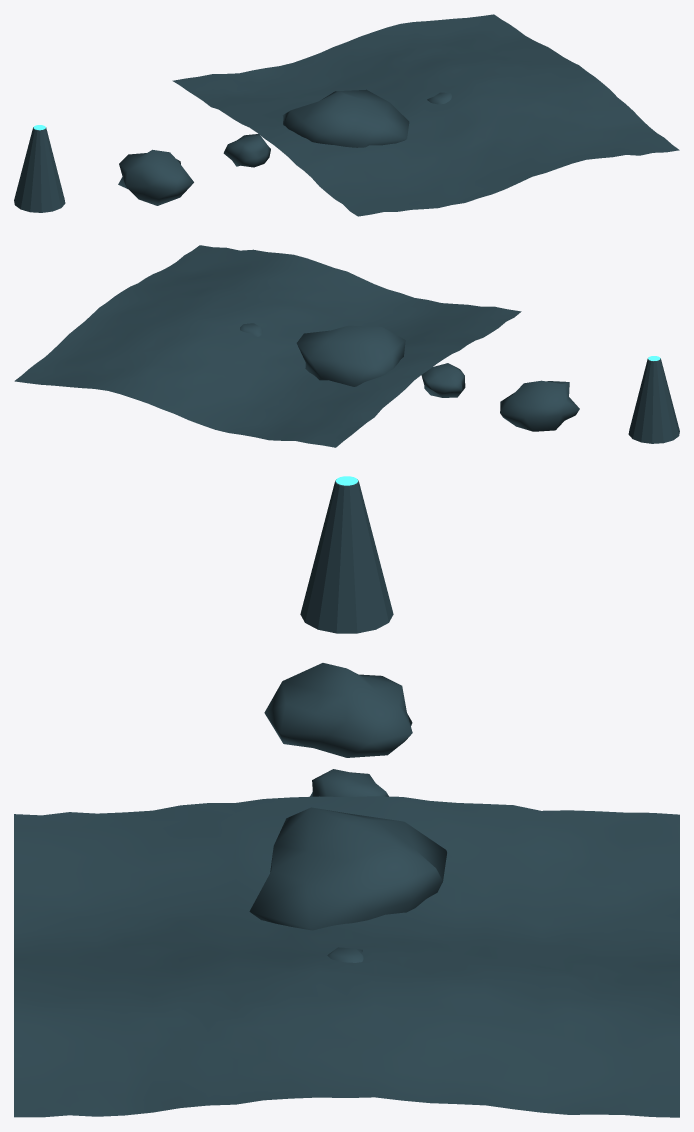
The model's file is seabed-kit.glb.
3 views of the same model, one above another, from view 1: azimuth 30°, elevation 25°; view 2: azimuth 150°, elevation 25°; view 3: azimuth 270°, elevation 25° (orthographic). The views are drawn at different scales.
Parts seen in each view (by area): view 1: TerrainTile, Rock3, Rock1, VentChimney, Rock2; view 2: TerrainTile, Rock3, Rock1, VentChimney, Rock2; view 3: TerrainTile, Rock3, Rock1, VentChimney, Rock2.
Boxes of the visible parts, x1,y1,x2,y2 form: TerrainTile: [172, 14, 679, 216]; Rock3: [282, 89, 409, 147]; Rock1: [118, 149, 193, 205]; VentChimney: [14, 127, 65, 212]; Rock2: [223, 134, 270, 167]; TerrainTile: [14, 245, 521, 447]; Rock3: [296, 325, 405, 386]; Rock1: [500, 380, 579, 431]; VentChimney: [628, 358, 679, 443]; Rock2: [421, 363, 465, 397]; TerrainTile: [14, 796, 679, 1117]; Rock3: [249, 807, 446, 930]; Rock1: [264, 663, 412, 757]; VentChimney: [300, 479, 393, 633]; Rock2: [310, 769, 388, 796].
Size of the model in its own units: 17.68 by 3.1 by 10.
